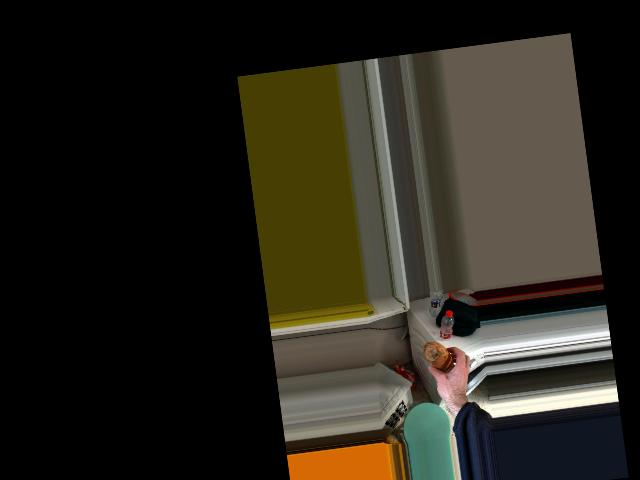sweet_potato: (423, 338, 454, 375)
